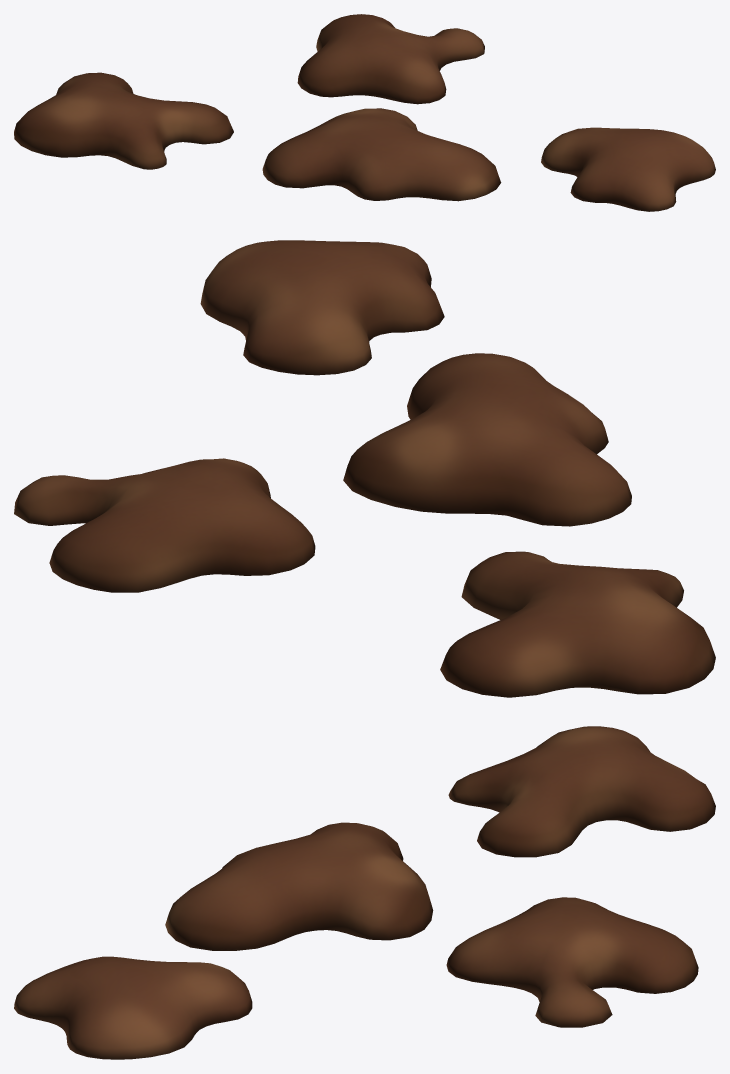
File: Mess_Gravy.fbx
3 views of the same model, one above another, from view 1: azimuth 30°, elevation 25°; view 2: azimuth 150°, elevation 25°; view 3: azimuth 270°, elevation 25° (orthographic). The views are drawn at different scales.
Parts seen in each view (by area): view 1: Mess_Gravy; view 2: Mess_Gravy; view 3: Mess_Gravy.
Part boxes in pixels (<box>): Mess_Gravy: <box>14,14,715,211</box>; Mess_Gravy: <box>14,240,715,697</box>; Mess_Gravy: <box>14,726,715,1059</box>.
Bounding box in the file's own units: 49.6 × 4.12 × 46.79.
